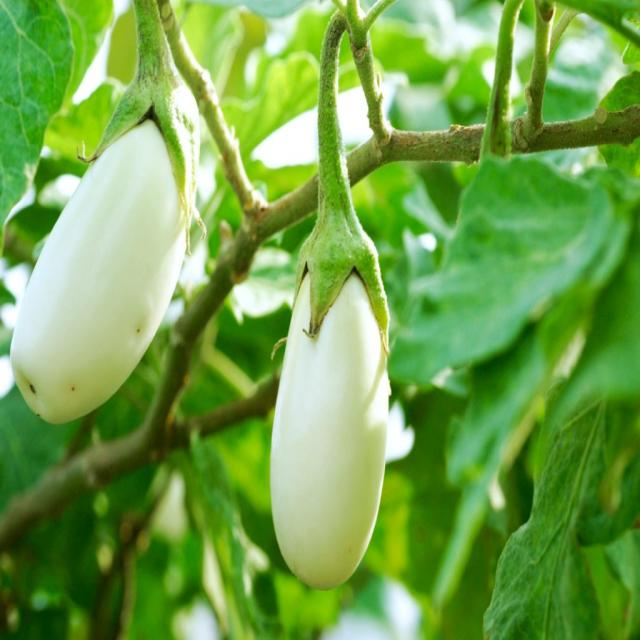eggplant: (7, 65, 201, 427), (266, 224, 392, 592)
